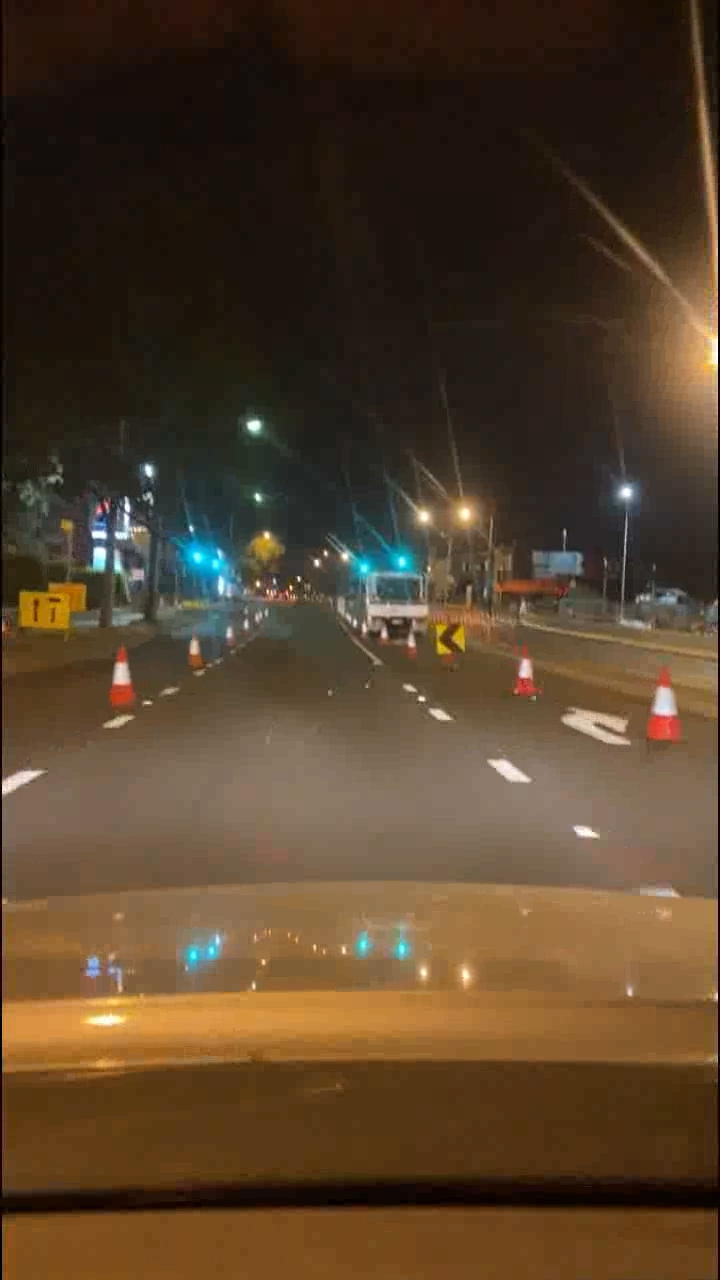road cone: (641, 663, 685, 754), (503, 644, 547, 705), (102, 648, 137, 711), (181, 624, 216, 687), (228, 605, 268, 638)
road works sign board: (18, 586, 72, 632), (435, 619, 468, 655)
truck: (337, 557, 422, 642)
